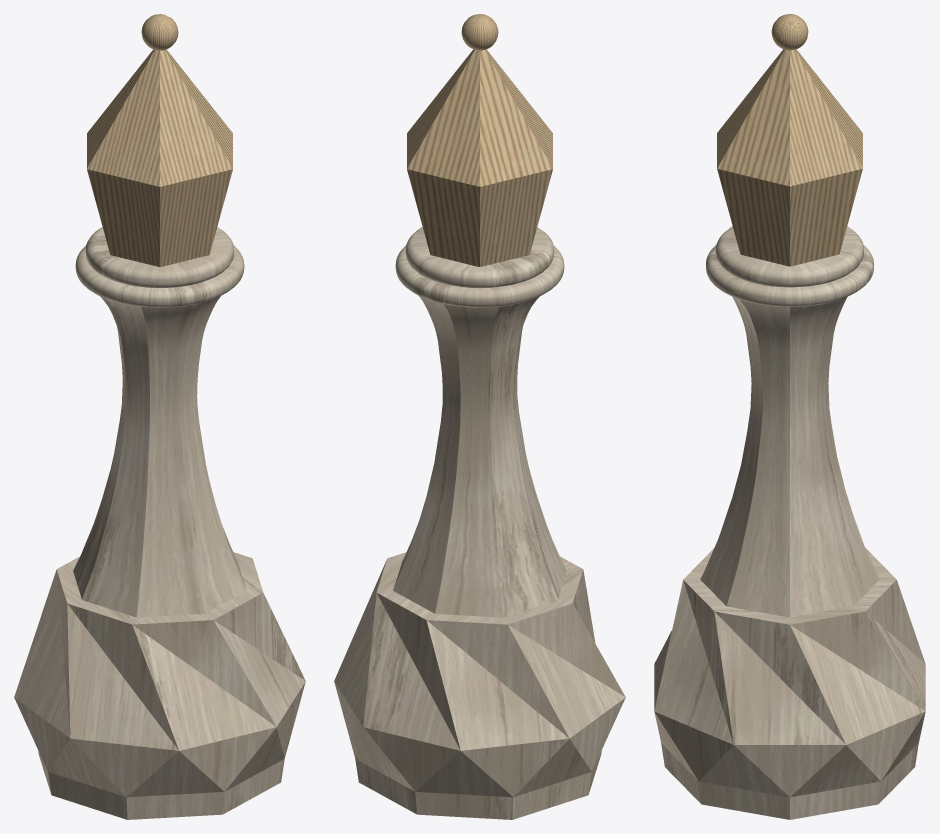
The model's file is lithoxyl_queen_white.glb.
3 renders of one model, left to right at view 1: azimuth 30°, elevation 25°; view 2: azimuth 150°, elevation 25°; view 3: azimuth 270°, elevation 25°, orthographic.
Parts seen in each view (by area): view 1: Lithoxyl_Queen_Ivory; view 2: Lithoxyl_Queen_Ivory; view 3: Lithoxyl_Queen_Ivory.
Part boxes in pixels (box(x1,y1,x2,y2)): Lithoxyl_Queen_Ivory: box(14, 14, 305, 819); Lithoxyl_Queen_Ivory: box(334, 14, 625, 819); Lithoxyl_Queen_Ivory: box(654, 14, 925, 819).
Bounding box in the file's own units: 0.0288 × 0.088 × 0.0288.
Materials: 2 (2 with a texture image).
